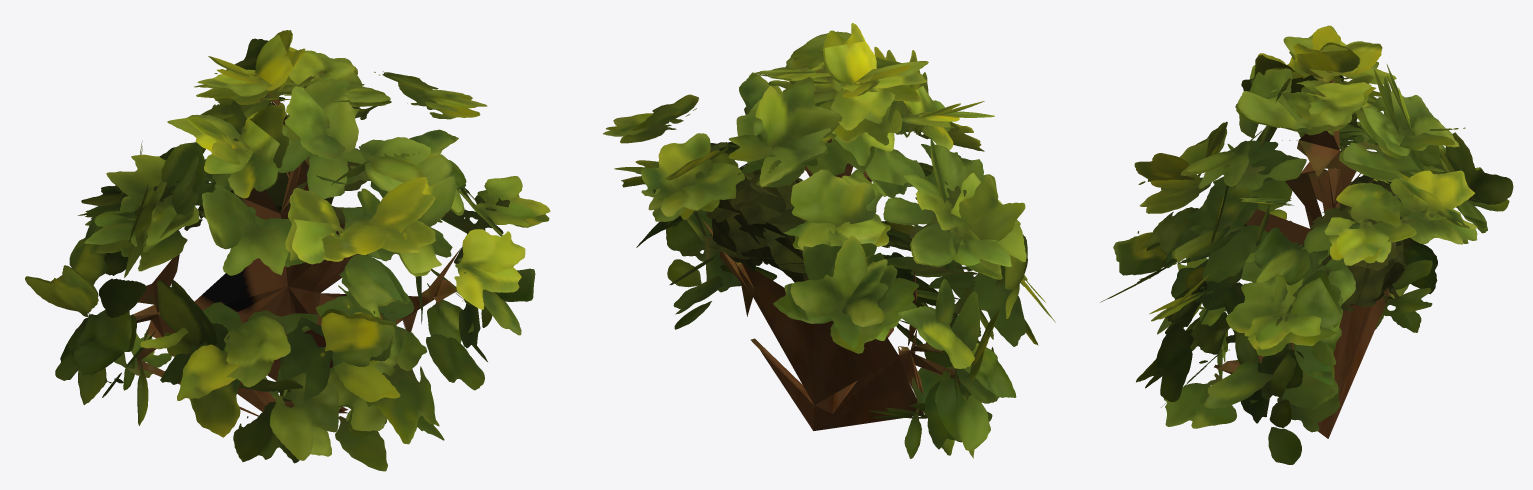
The model's file is cali_lod2.glb.
3 views of the same model, side by side, from view 1: azimuth 30°, elevation 25°; view 2: azimuth 150°, elevation 25°; view 3: azimuth 270°, elevation 25° (orthographic). The views are drawn at different scales.
Visible parts, largest first — view 1: cali_lod2; view 2: cali_lod2; view 3: cali_lod2.
Boxes of the visible parts, bbox=[...] form: cali_lod2: bbox=[25, 30, 550, 471]; cali_lod2: bbox=[603, 23, 1055, 458]; cali_lod2: bbox=[1100, 25, 1513, 464].
Bounding box in the file's own units: 1.42 × 1.25 × 1.2.
Materials: 2 (2 with a texture image).
